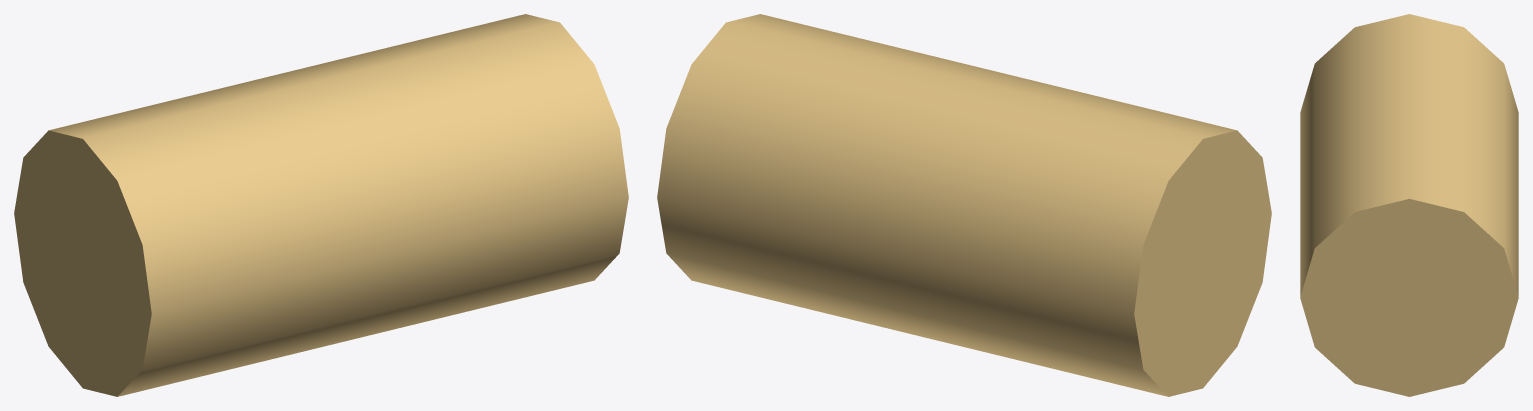
File: casing.glb
3 views of the same model, side by side, from view 1: azimuth 30°, elevation 25°; view 2: azimuth 150°, elevation 25°; view 3: azimuth 270°, elevation 25° (orthographic). The views are drawn at different scales.
Parts seen in each view (by area): view 1: casing; view 2: casing; view 3: casing.
Part boxes in pixels (x1,y1,x2,y2): casing: (14, 14, 628, 396); casing: (657, 14, 1271, 396); casing: (1300, 14, 1518, 396).
Size of the model in its own units: 0.019 by 0.0095 by 0.0095.
